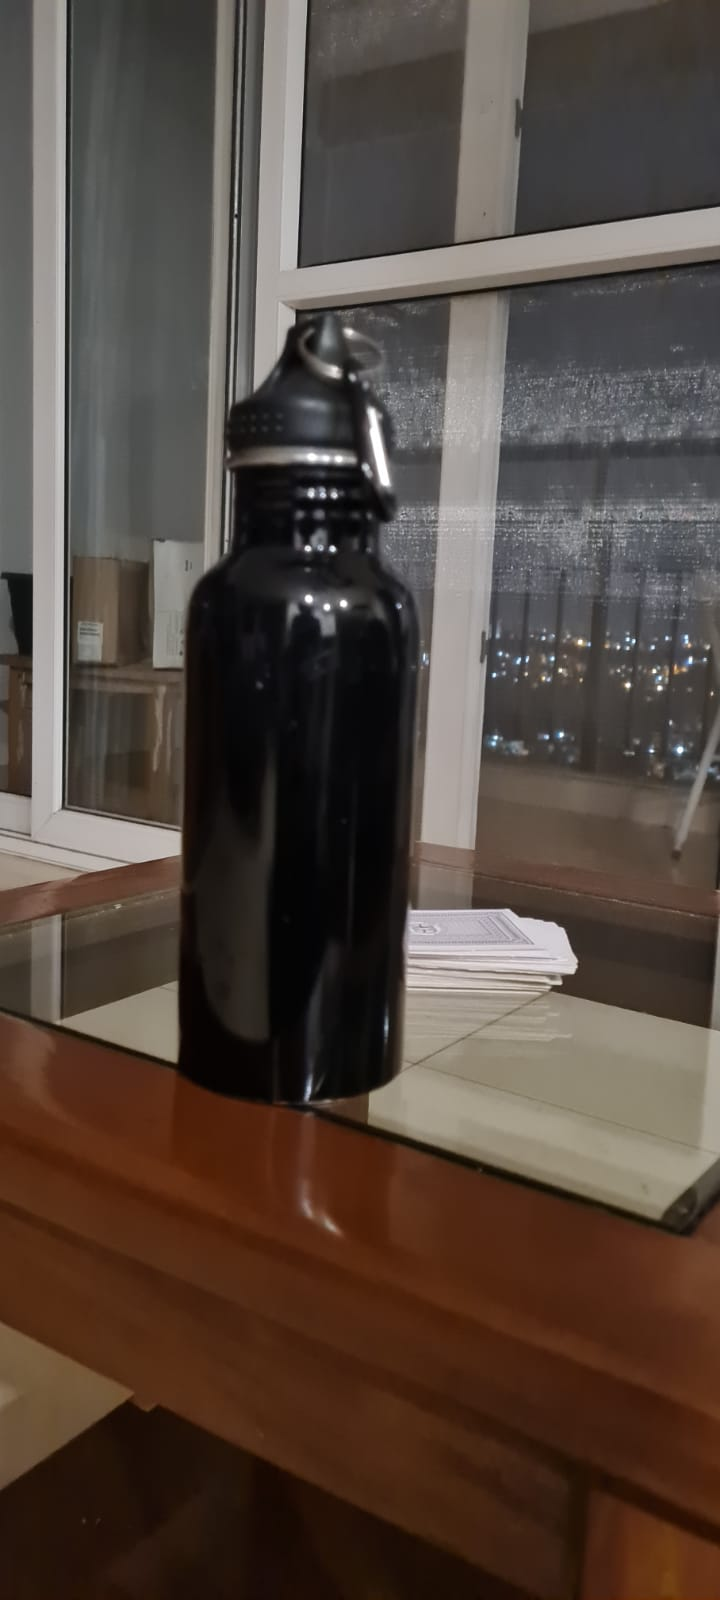bottle: (172, 309, 431, 1113)
